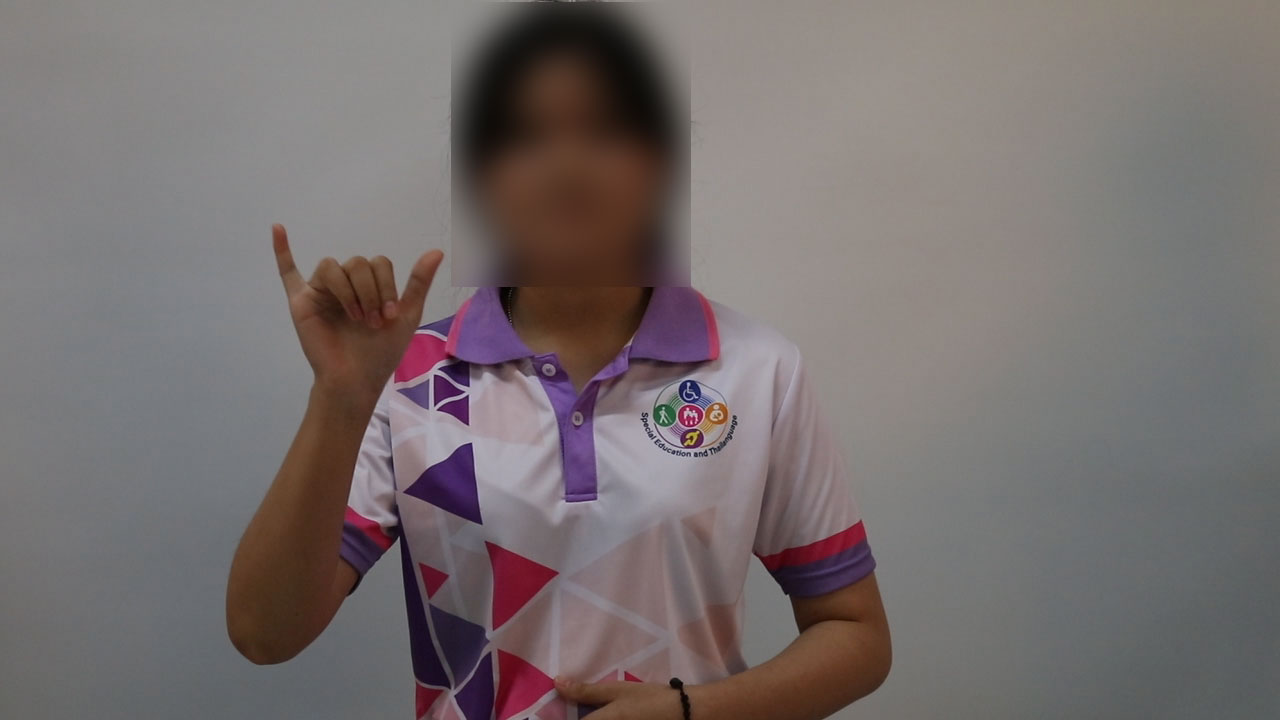yor: (259, 210, 464, 417)
